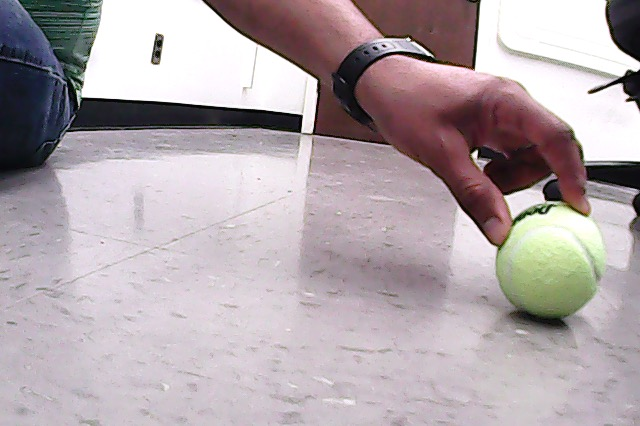ball: (495, 199, 608, 323)
